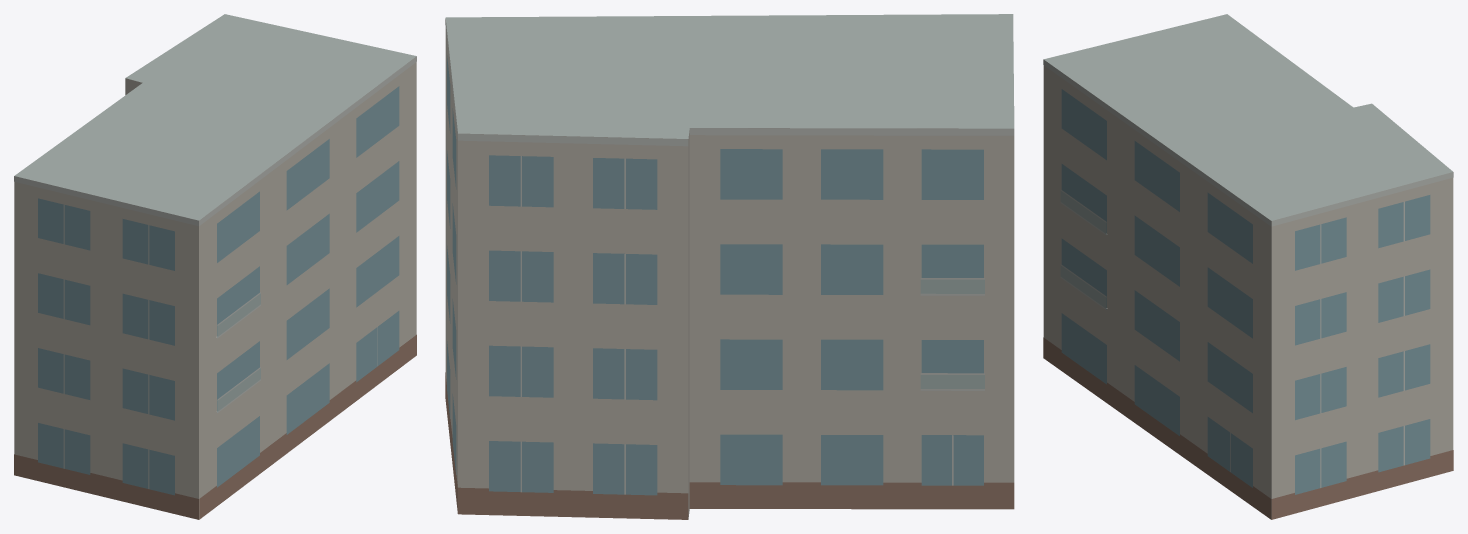
Rendered from survey-upis-32670001.glb.
The picture shows the model from 3 angles, left to right: view 1: azimuth 30°, elevation 25°; view 2: azimuth 150°, elevation 25°; view 3: azimuth 270°, elevation 25°; orthographic projection. The views are drawn at different scales.
Parts seen in each view (by area): view 1: survey-upis-32670001.tmp; view 2: survey-upis-32670001.tmp; view 3: survey-upis-32670001.tmp.
Part boxes in pixels (x1=…): survey-upis-32670001.tmp: x1=14, y1=14, x2=416, y2=519; survey-upis-32670001.tmp: x1=445, y1=14, x2=1014, y2=519; survey-upis-32670001.tmp: x1=1043, y1=14, x2=1453, y2=519.
Bounding box in the file's own units: 19.17 × 12.9 × 16.05.
